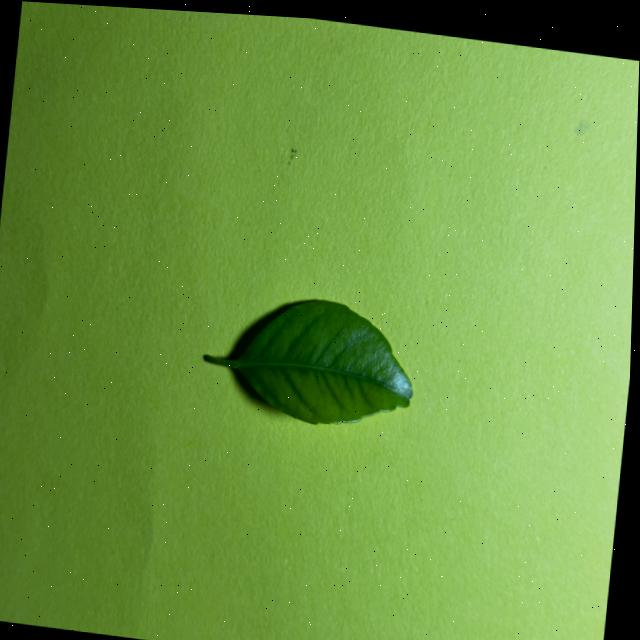greening: (205, 300, 411, 422)
